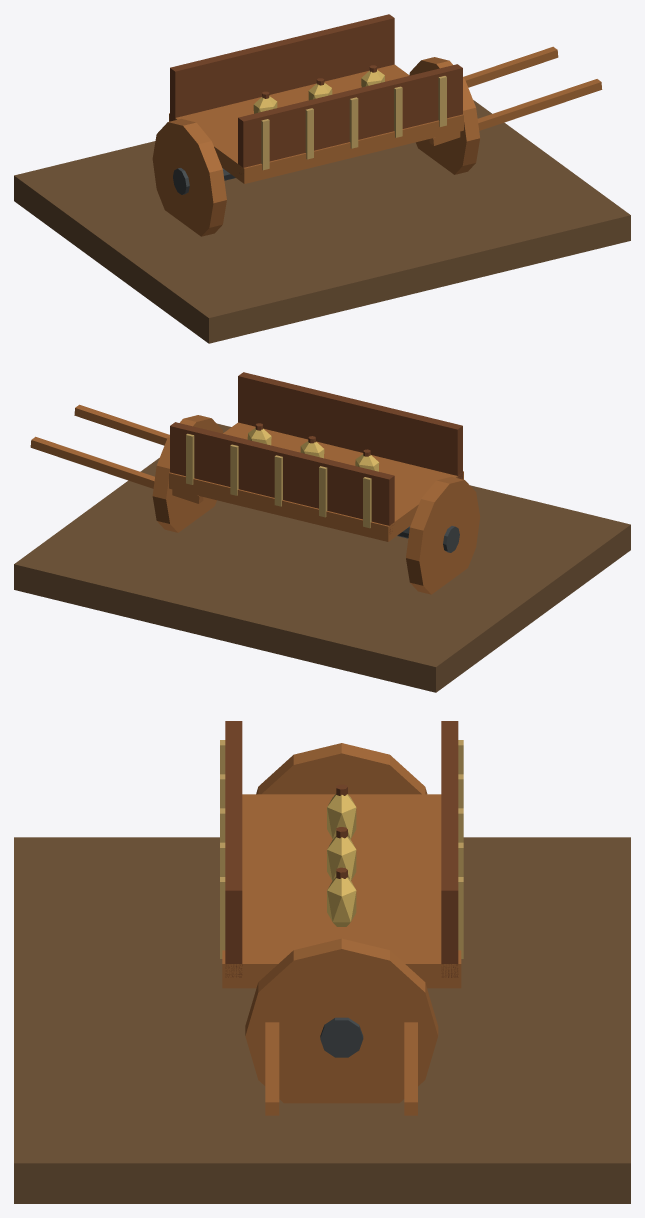
Rendered from wooden_cart.glb.
3 renders of one model, top to bottom at view 1: azimuth 30°, elevation 25°; view 2: azimuth 150°, elevation 25°; view 3: azimuth 270°, elevation 25°, orthographic. The views are drawn at different scales.
Parts seen in each view (by area): view 1: TerrainBase, CartSide.001, CartSide, CartBed, CartWheel, CartWheel.001, CartShaft, CartShaft.001, SideSlat.002; view 2: TerrainBase, CartSide, CartSide.001, CartBed, CartWheel, CartWheel.001, CartShaft.001, CartShaft, SideSlat.007; view 3: TerrainBase, CartBed, CartWheel.001, CartWheel, CartSide.001, CartSide, CartShaft, WheelHub.001, CartShaft.001, CartSack.002, CartSack, CartSack.001.
Boxes of the visible parts, box(x1,y1,x2,y2) form: TerrainBase: box(14, 100, 630, 343); CartSide.001: box(170, 14, 394, 121); CartSide: box(238, 64, 462, 173); CartBed: box(169, 64, 463, 183); CartWheel: box(152, 118, 226, 236); CartWheel.001: box(409, 57, 480, 174); CartShaft: box(429, 79, 602, 145); CartShaft.001: box(463, 46, 558, 87); SideSlat.002: box(349, 97, 358, 148); TerrainBase: box(14, 423, 630, 692); CartSide: box(238, 372, 462, 479); CartSide.001: box(170, 422, 394, 533); CartBed: box(169, 422, 463, 541); CartWheel: box(406, 476, 480, 594); CartWheel.001: box(152, 415, 223, 532); CartShaft.001: box(30, 436, 203, 503); CartShaft: box(74, 404, 169, 445); SideSlat.007: box(274, 455, 282, 506); TerrainBase: box(14, 837, 630, 1203); CartBed: box(222, 794, 461, 988); CartWheel.001: box(245, 938, 438, 1103); CartWheel: box(256, 743, 427, 794); CartSide.001: box(441, 721, 458, 977); CartSide: box(225, 721, 242, 977); CartShaft: box(265, 1022, 279, 1115); WheelHub.001: box(320, 1017, 363, 1057); CartShaft.001: box(404, 1022, 417, 1115); CartSack.002: box(327, 877, 356, 926); CartSack: box(327, 794, 356, 839); CartSack.001: box(327, 836, 356, 880).
Bounding box in the file's own units: 11.2 × 3.37 × 8.
